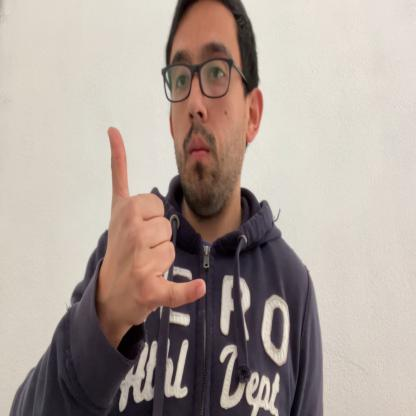Y: (104, 127, 206, 326)
